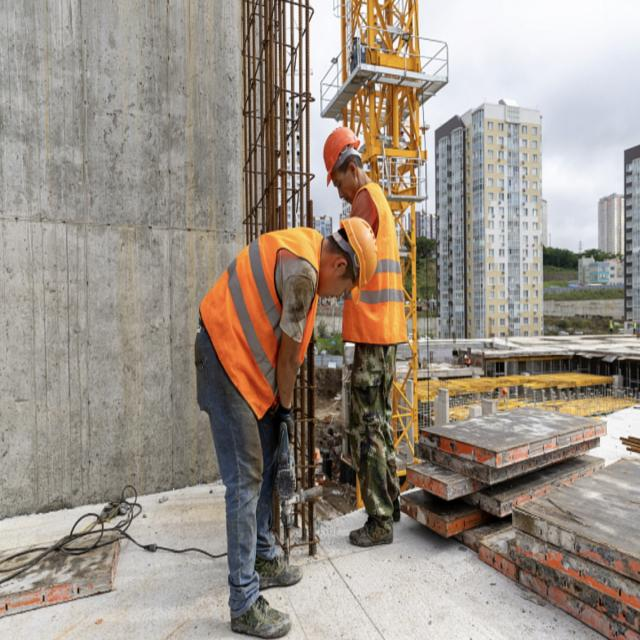Helmet: (340, 219, 379, 302), (324, 126, 361, 189)
Jacket: (225, 231, 328, 393), (375, 186, 404, 350)
